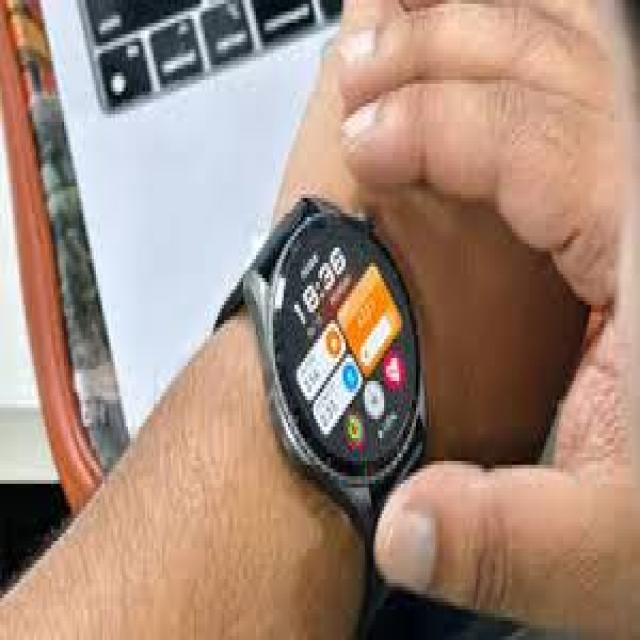objects: (213, 194, 430, 596)
